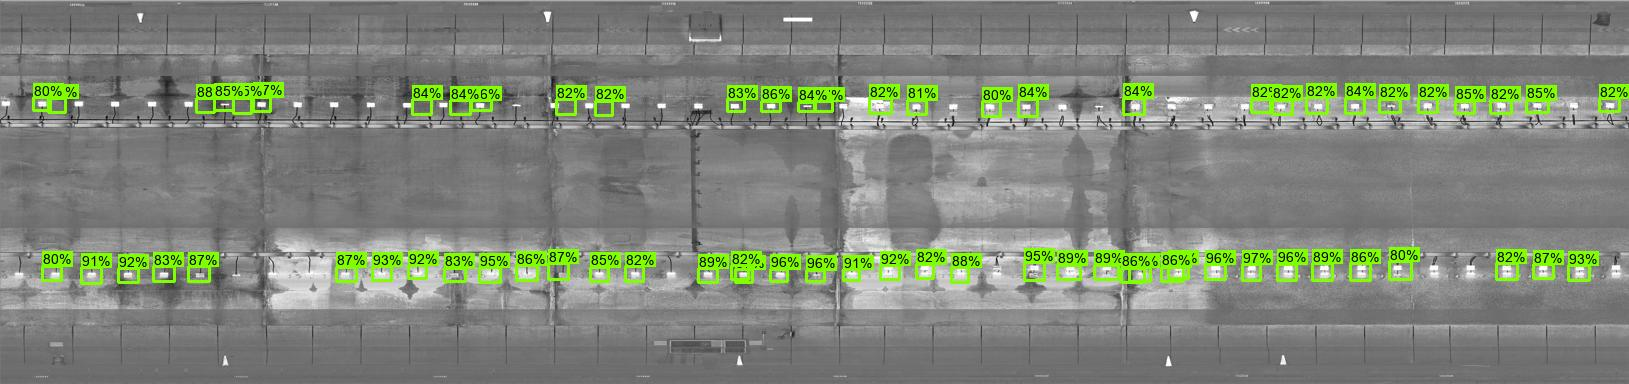light: (1312, 260, 1334, 283), (1348, 263, 1372, 282), (1094, 263, 1122, 278), (1390, 262, 1413, 280), (1277, 262, 1297, 281), (552, 268, 575, 284), (8, 268, 30, 284), (1306, 97, 1328, 113), (869, 99, 891, 114), (1166, 264, 1189, 279), (1460, 263, 1483, 278), (1243, 265, 1262, 282), (1424, 263, 1445, 279), (189, 269, 211, 284), (1059, 264, 1081, 278), (83, 267, 102, 284), (1019, 99, 1038, 116), (990, 263, 1009, 280), (1207, 264, 1226, 281), (397, 98, 417, 114), (1123, 99, 1144, 114), (1378, 99, 1401, 112), (1134, 266, 1153, 282), (445, 269, 468, 282), (338, 267, 357, 282), (661, 269, 680, 284), (880, 265, 900, 280), (118, 268, 139, 282), (481, 268, 502, 282), (1199, 101, 1220, 115), (1569, 265, 1590, 279), (954, 262, 970, 279), (1027, 263, 1045, 279), (1164, 100, 1180, 117), (1054, 99, 1073, 114), (1607, 264, 1626, 279), (1497, 264, 1516, 279), (1526, 100, 1549, 112), (1533, 263, 1556, 275), (155, 271, 176, 284), (518, 269, 539, 282), (1272, 101, 1292, 114), (1490, 101, 1511, 114), (1599, 99, 1620, 112), (327, 97, 344, 113), (144, 97, 162, 112), (229, 267, 246, 282), (289, 98, 308, 112), (625, 268, 644, 282), (907, 100, 926, 114), (771, 269, 791, 282), (944, 101, 964, 114), (1347, 99, 1364, 114), (253, 97, 271, 111), (983, 102, 1000, 116), (215, 98, 234, 111), (544, 99, 563, 112), (727, 99, 746, 112), (1236, 99, 1255, 112), (698, 270, 718, 282), (1456, 101, 1475, 113), (47, 268, 63, 282), (592, 268, 609, 282), (472, 100, 492, 111), (72, 98, 87, 112), (917, 263, 933, 277), (581, 99, 597, 112), (736, 270, 752, 283), (1091, 101, 1107, 114), (1419, 99, 1436, 112), (1567, 99, 1583, 112), (180, 98, 197, 110), (434, 100, 453, 111), (652, 99, 671, 110), (34, 98, 51, 110), (363, 100, 379, 112), (409, 266, 426, 278), (371, 268, 391, 278), (265, 269, 282, 280), (300, 268, 317, 279), (617, 100, 634, 111), (845, 270, 862, 280), (762, 102, 779, 112), (107, 98, 122, 110), (809, 271, 826, 281), (837, 102, 854, 112), (1, 98, 16, 109), (689, 101, 706, 110), (799, 102, 814, 112), (509, 101, 524, 110)
